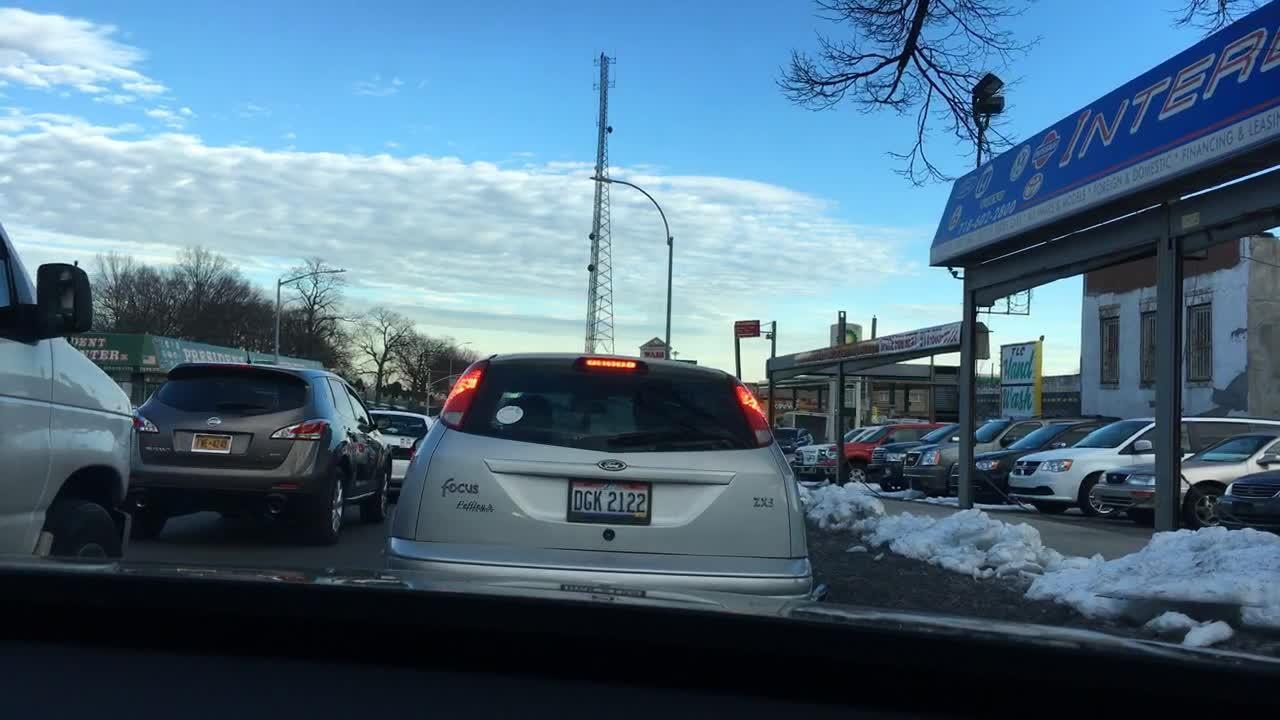Honda: (204, 414, 224, 431)
ford: (597, 458, 630, 473)
